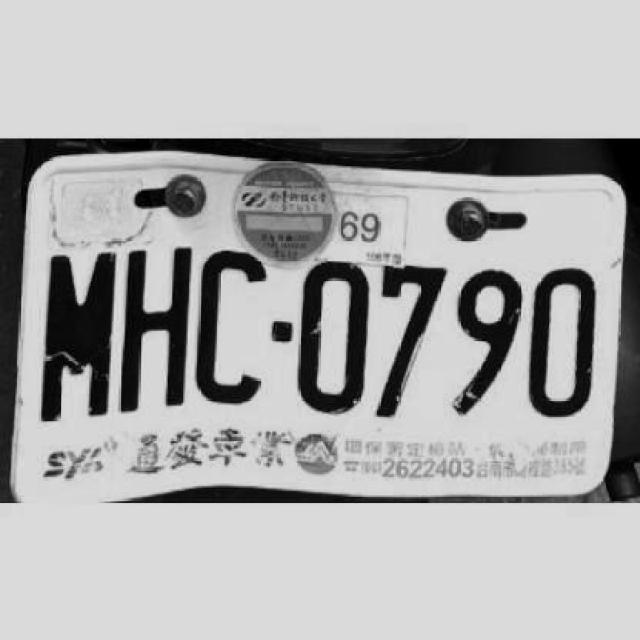-: (271, 319, 295, 346)
0: (295, 260, 368, 413), (525, 265, 597, 419)
7: (371, 262, 448, 418)
9: (449, 265, 524, 416)
C: (192, 248, 268, 405)
H: (118, 244, 190, 412)
M: (37, 250, 114, 419)
